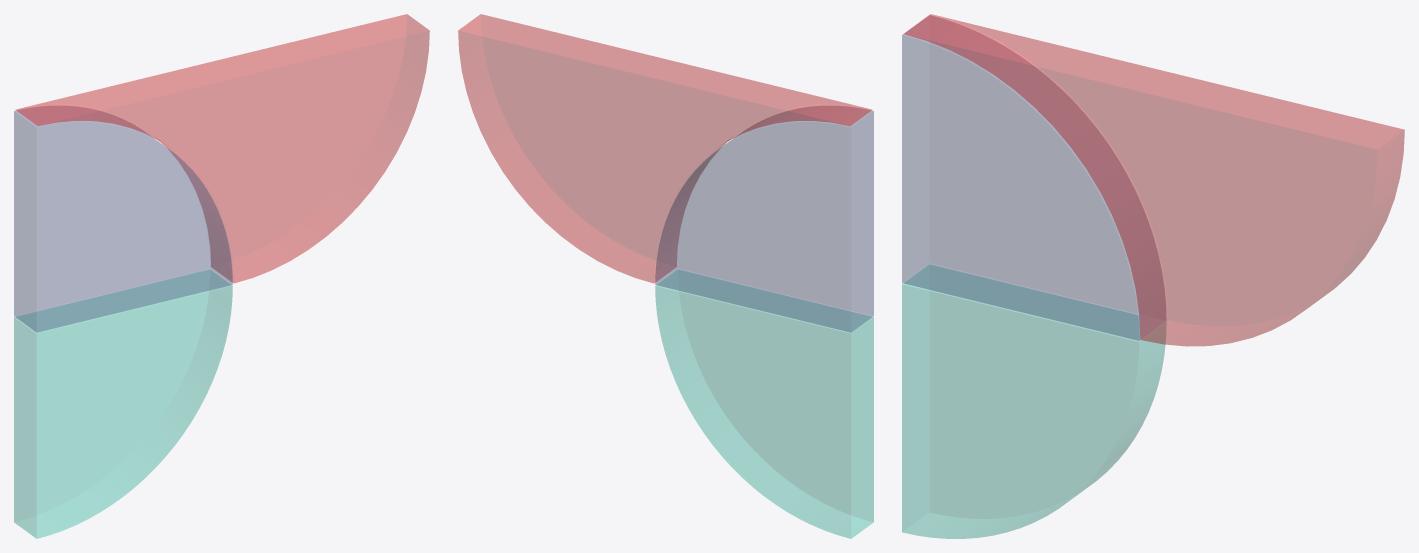
File: FlexportGlyph8.glb
3 renders of one model, left to right at view 1: azimuth 30°, elevation 25°; view 2: azimuth 150°, elevation 25°; view 3: azimuth 330°, elevation 25°, orthographic. The views are drawn at different scales.
Visible parts, largest first — view 1: Circle.002, Cube.001, Cube; view 2: Circle.002, Cube.001, Cube; view 3: Circle.002, Cube, Cube.001.
Part boxes in pixels (left/top/right/bottom): Circle.002: left=16, top=14, right=429, bottom=283; Cube.001: left=14, top=270, right=232, bottom=538; Cube: left=14, top=106, right=232, bottom=332; Circle.002: left=458, top=14, right=871, bottom=283; Cube.001: left=655, top=270, right=873, bottom=538; Cube: left=655, top=106, right=873, bottom=332; Circle.002: left=904, top=14, right=1404, bottom=346; Cube: left=902, top=15, right=1166, bottom=340; Cube.001: left=902, top=265, right=1166, bottom=538.
Bounding box in the file's own units: 2 × 2.01 × 0.2002.
